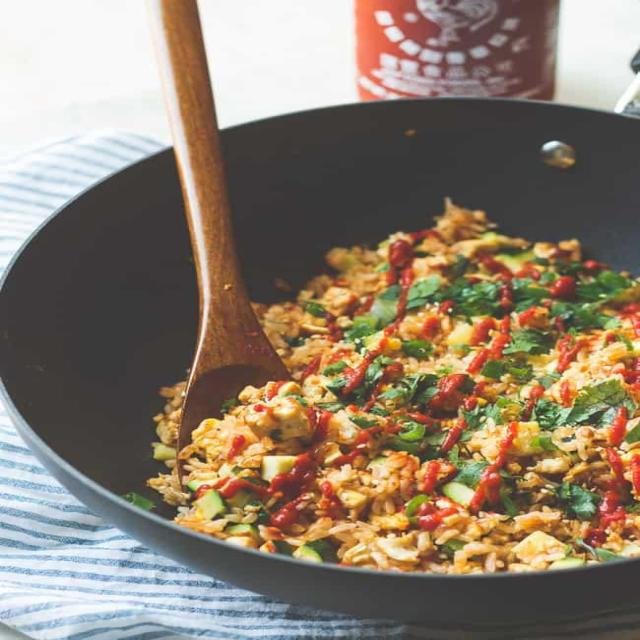Nasi Goreng: (148, 198, 638, 573)
